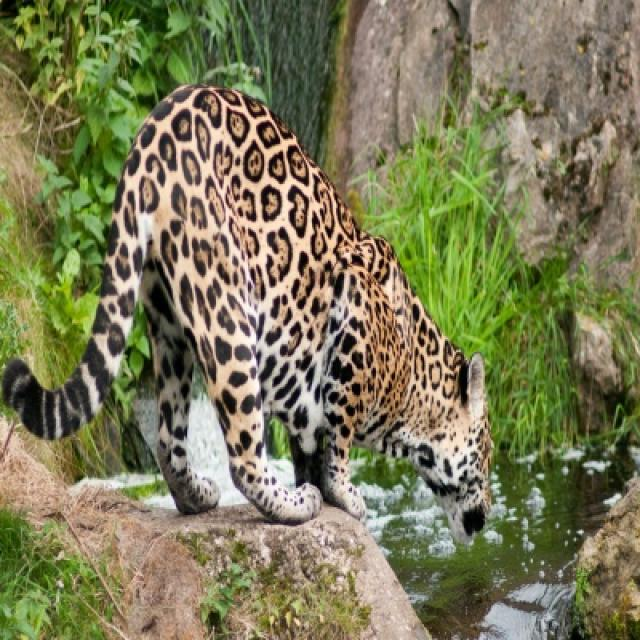Jaguar: (0, 85, 494, 549)
